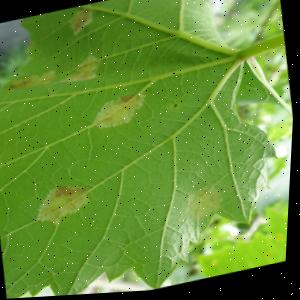Folha: (0, 0, 300, 300), (191, 199, 291, 282)
Fungo: (34, 179, 96, 228), (90, 92, 150, 132), (51, 54, 103, 87), (9, 69, 59, 91), (66, 7, 96, 36)
